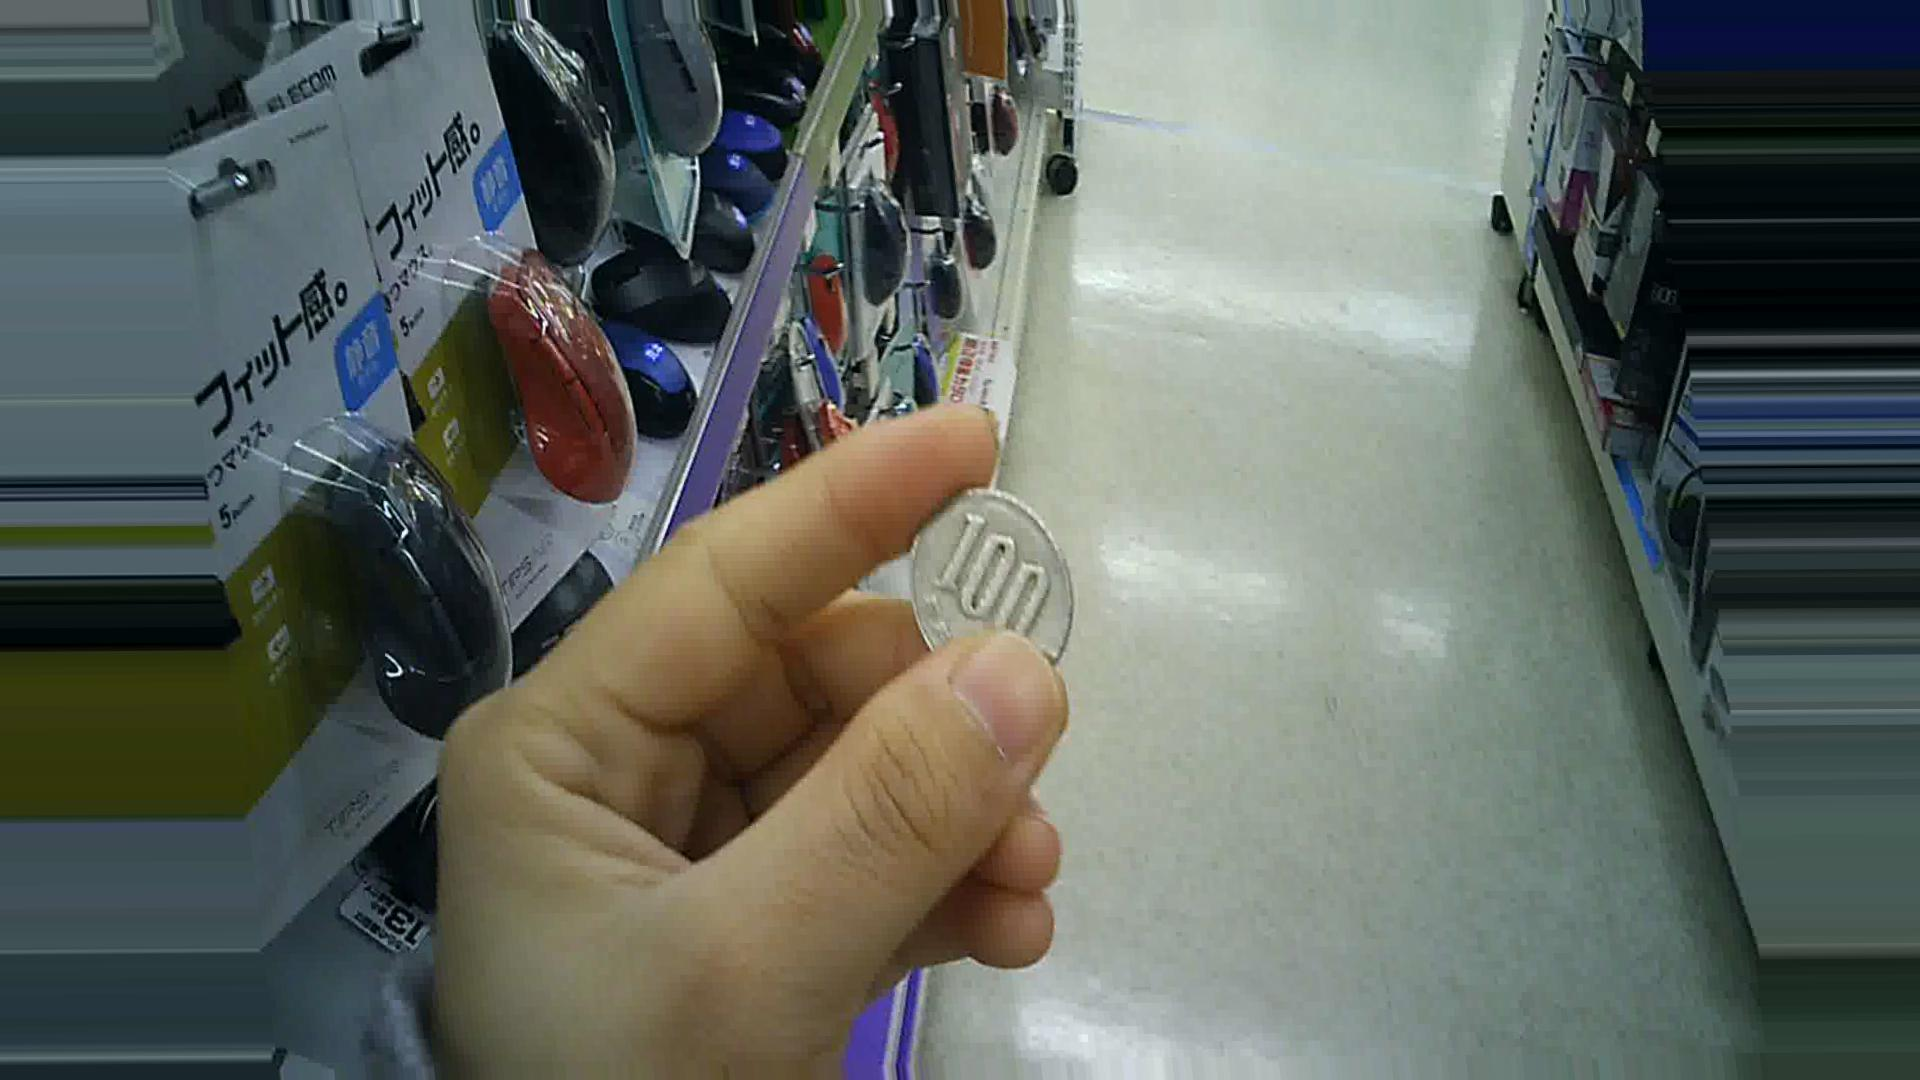100 Yen: (897, 473, 1069, 683)
